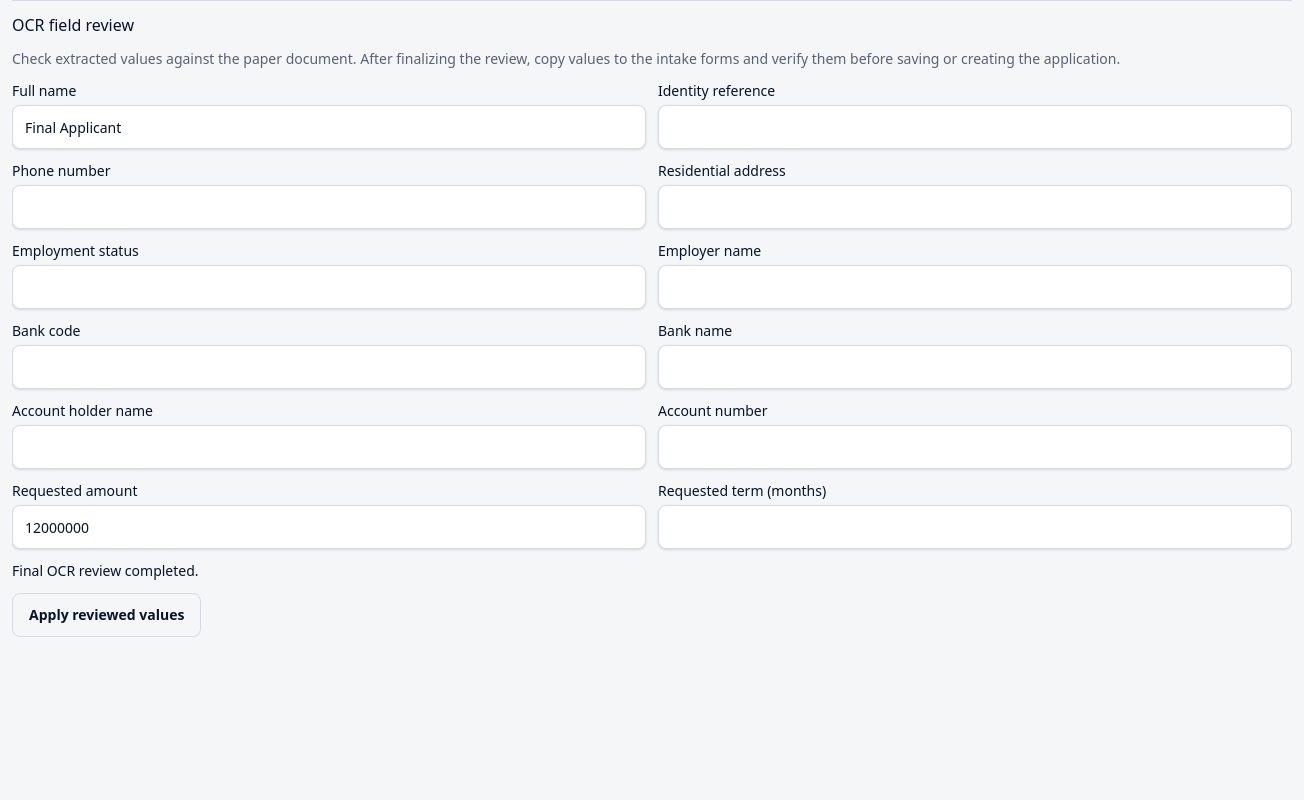
Scenario: IntakeOcrReviewPanel › applies only finalized reviewed fields after the explicit Staff action
Click the button "Apply reviewed values" at (107, 615), box [12,593,202,637]
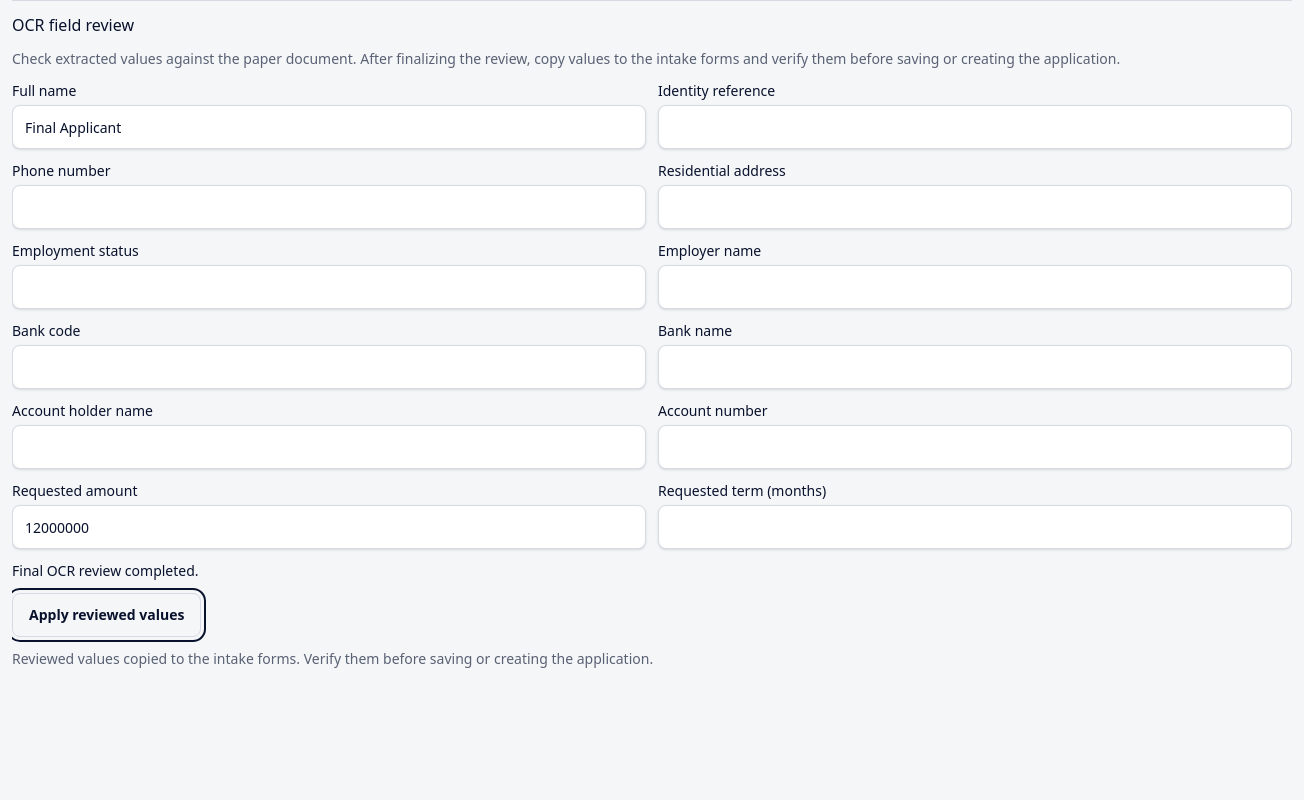
Check: the text "copied to the intake forms" is shown, box [12,649,653,668]
